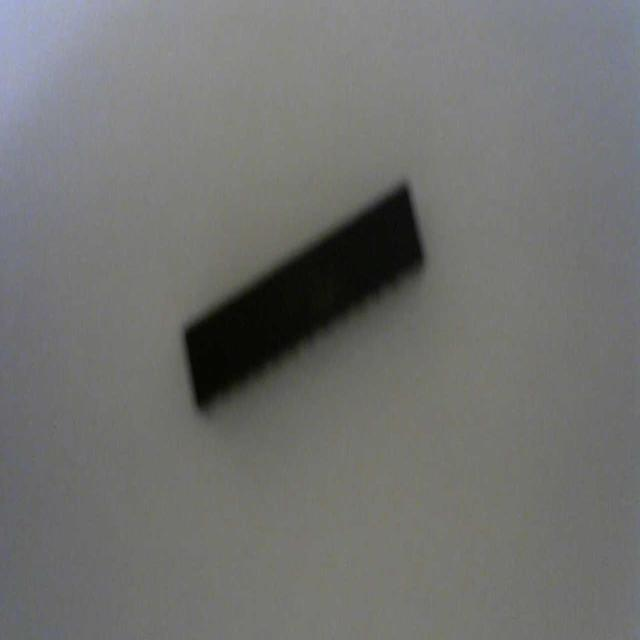atmega: (181, 176, 427, 415)
